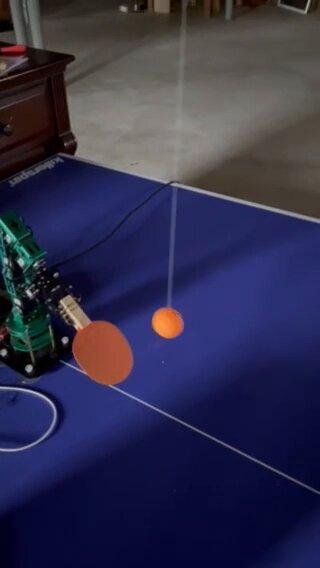oball: (152, 310, 184, 337)
